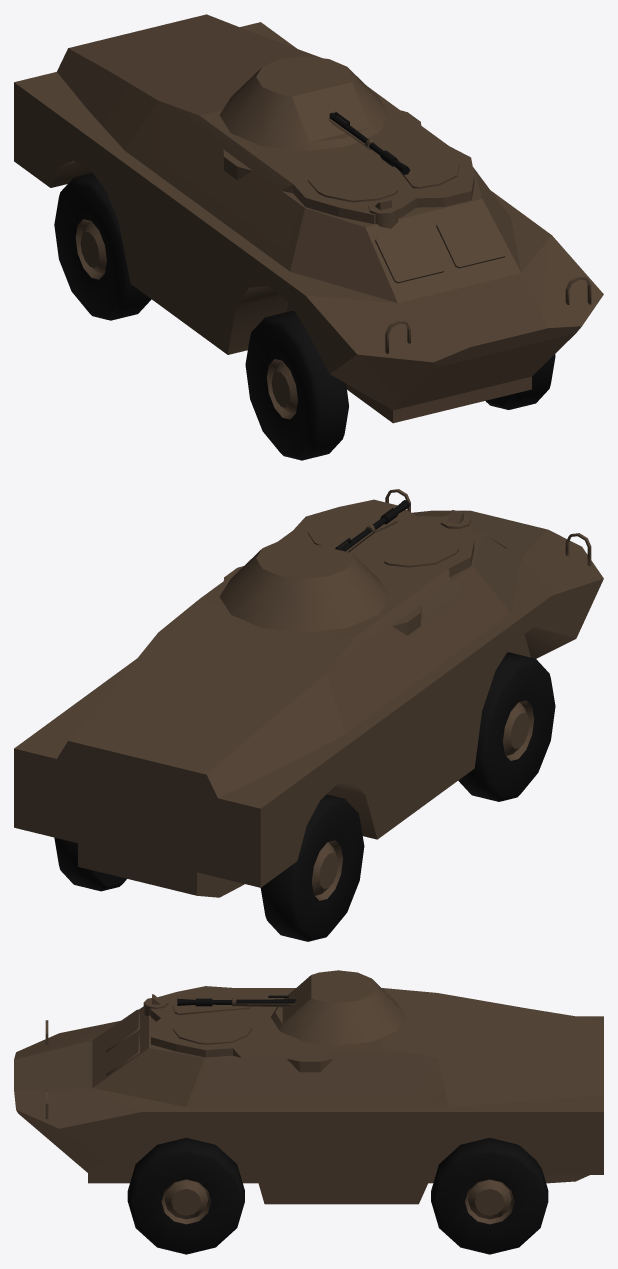
The model's file is brdm2_pivottest(1).FBX.
3 views of the same model, one above another, from view 1: azimuth 30°, elevation 25°; view 2: azimuth 150°, elevation 25°; view 3: azimuth 270°, elevation 25° (orthographic). The views are drawn at different scales.
Visible parts, largest first — view 1: BRDM optimized, Turret, wheel1, wheel2, Windows, Front top hatch, wheel3, Gunall, Commander Viewport; view 2: BRDM optimized, Turret, wheel2, wheel1, Front top hatch, wheel4, Gunall; view 3: BRDM optimized, wheel3, wheel4, Turret, Front top hatch, Windows, Gunall, Side_viewport.
Part boxes in pixels (box(x1,y1,x2,y2)): BRDM optimized: box(14, 14, 603, 423); Turret: box(219, 56, 389, 151); wheel1: box(245, 311, 348, 460); wheel2: box(54, 173, 151, 320); Windows: box(375, 211, 506, 283); Front top hatch: box(307, 145, 459, 202); wheel3: box(485, 354, 555, 409); Gunall: box(328, 111, 409, 174); Commander Viewport: box(368, 199, 398, 228); BRDM optimized: box(14, 499, 603, 897); Turret: box(219, 538, 389, 632); wheel2: box(260, 794, 364, 941); wheel1: box(458, 652, 555, 801); Front top hatch: box(307, 510, 459, 567); wheel4: box(54, 837, 126, 891); Gunall: box(335, 500, 409, 552); BRDM optimized: box(14, 986, 603, 1204); wheel3: box(127, 1137, 244, 1254); wheel4: box(431, 1137, 548, 1254); Turret: box(271, 970, 405, 1045); Front top hatch: box(172, 990, 251, 1044); Windows: box(104, 1009, 139, 1075); Gunall: box(177, 995, 296, 1007); Side_viewport: box(287, 1058, 333, 1072).
Size of the model in its own units: 90.74 by 98.57 by 237.
